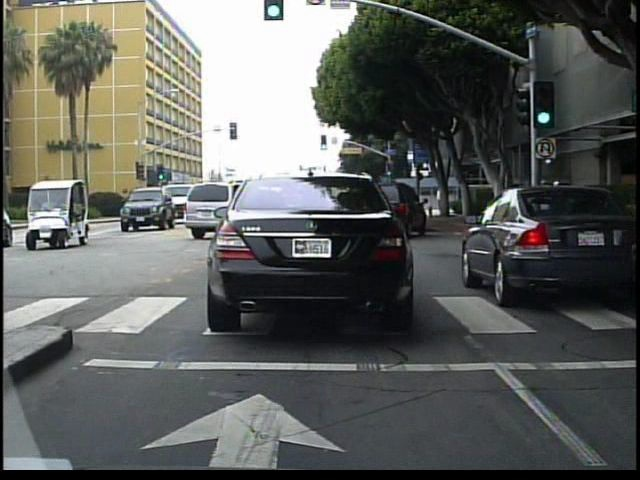person: (523, 174, 544, 229), (435, 185, 449, 215)
